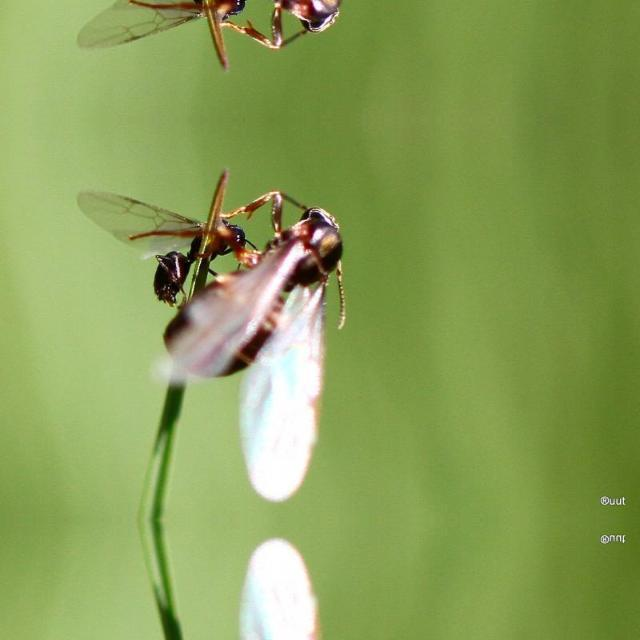Lasius: (150, 162, 396, 452), (149, 0, 394, 74), (128, 173, 258, 305), (127, 0, 256, 64)
